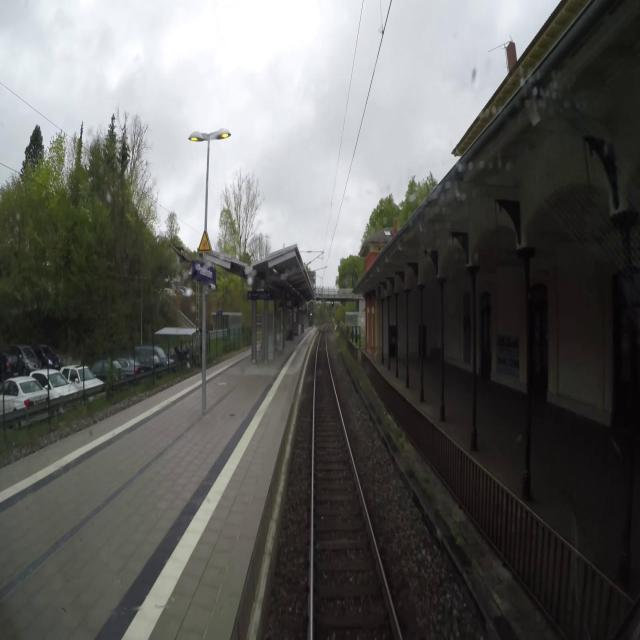rail-track: (314, 328, 398, 639)
